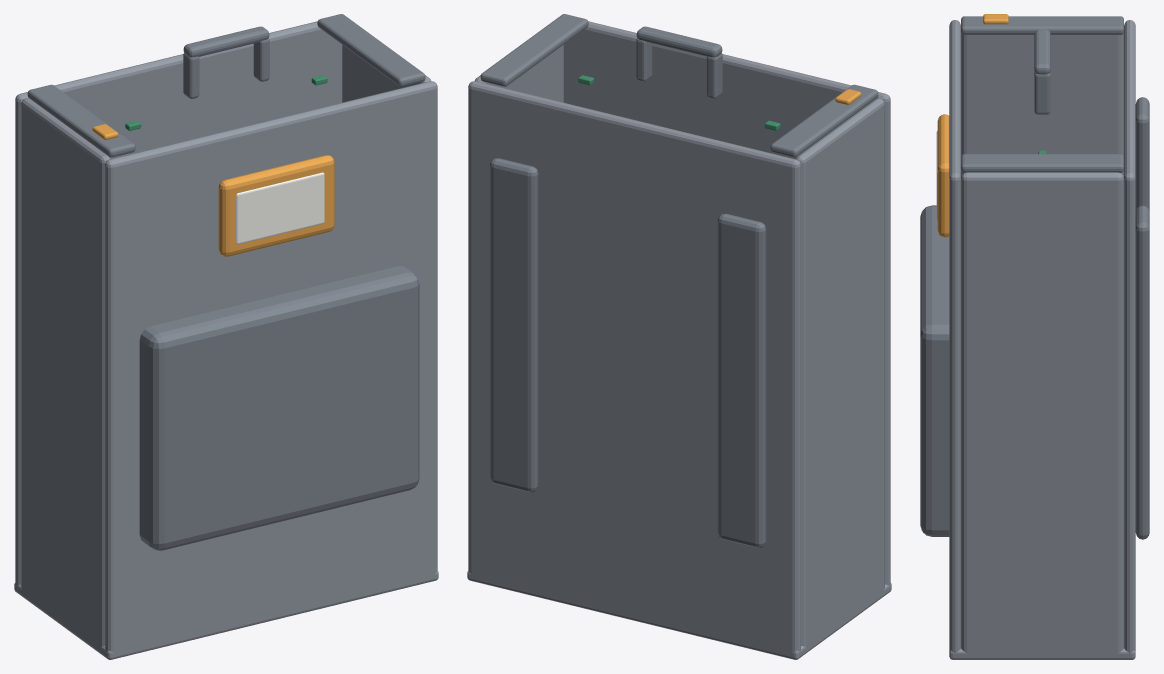
The model's file is bagsense_model_v10.glb.
3 views of the same model, side by side, from view 1: azimuth 30°, elevation 25°; view 2: azimuth 150°, elevation 25°; view 3: azimuth 270°, elevation 25° (orthographic). The views are drawn at different scales.
Parts seen in each view (by area): view 1: Panel_Front, FrontPocket, Panel_Left, Panel_Back, DisplayPanel, DisplayBezel, ZipRim_Right, Panel_Floor, ZipRim_Left, Panel_Right, Handle_Bar, Handle_PostL (+1 smaller); view 2: Panel_Back, Panel_Left, Panel_Front, Strap_L, Strap_R, ZipRim_Right, Panel_Floor, ZipRim_Left, Panel_Right, Handle_Bar, Handle_PostL, Handle_PostR; view 3: Panel_Right, Panel_Left, FrontPocket, Panel_Back, Panel_Front, Strap_R, ZipRim_Right, ZipRim_Left, Strap_L, DisplayBezel, Panel_Floor, Handle_Bar (+1 smaller).
Boxes of the visible parts, x1,y1,x2,y2 form: Panel_Front: (105, 81, 437, 654); FrontPocket: (139, 266, 419, 550); Panel_Left: (21, 98, 109, 649); Panel_Back: (15, 21, 341, 585); DisplayPanel: (236, 172, 324, 244); DisplayBezel: (218, 155, 334, 256); ZipRim_Right: (317, 14, 425, 86); Panel_Floor: (14, 570, 438, 659); ZipRim_Left: (27, 84, 135, 157); Panel_Right: (342, 44, 431, 102); Handle_Bar: (183, 26, 269, 57); Handle_PostL: (183, 53, 199, 98); Panel_Back: (468, 81, 800, 654); Panel_Left: (796, 98, 884, 647); Panel_Front: (564, 21, 890, 585); Strap_L: (717, 213, 766, 547); Strap_R: (490, 158, 538, 492); ZipRim_Right: (480, 14, 588, 86); Panel_Floor: (467, 570, 891, 659); ZipRim_Left: (770, 84, 878, 157); Panel_Right: (474, 44, 563, 102); Handle_Bar: (636, 26, 722, 57); Handle_PostL: (706, 53, 722, 98); Handle_PostR: (636, 38, 652, 81); Panel_Right: (961, 172, 1123, 655); Panel_Left: (961, 32, 1123, 177); FrontPocket: (920, 205, 949, 536); Panel_Back: (1124, 20, 1135, 653); Panel_Front: (949, 20, 960, 653); Strap_R: (1135, 205, 1149, 539); ZipRim_Right: (961, 154, 1123, 172); ZipRim_Left: (961, 16, 1123, 34); Strap_L: (1135, 97, 1149, 211); DisplayBezel: (937, 114, 949, 237); Panel_Floor: (949, 648, 1135, 659); Handle_Bar: (1034, 29, 1050, 74).
Size of what is drawn, in the model's own units: 320 by 507 by 197.
